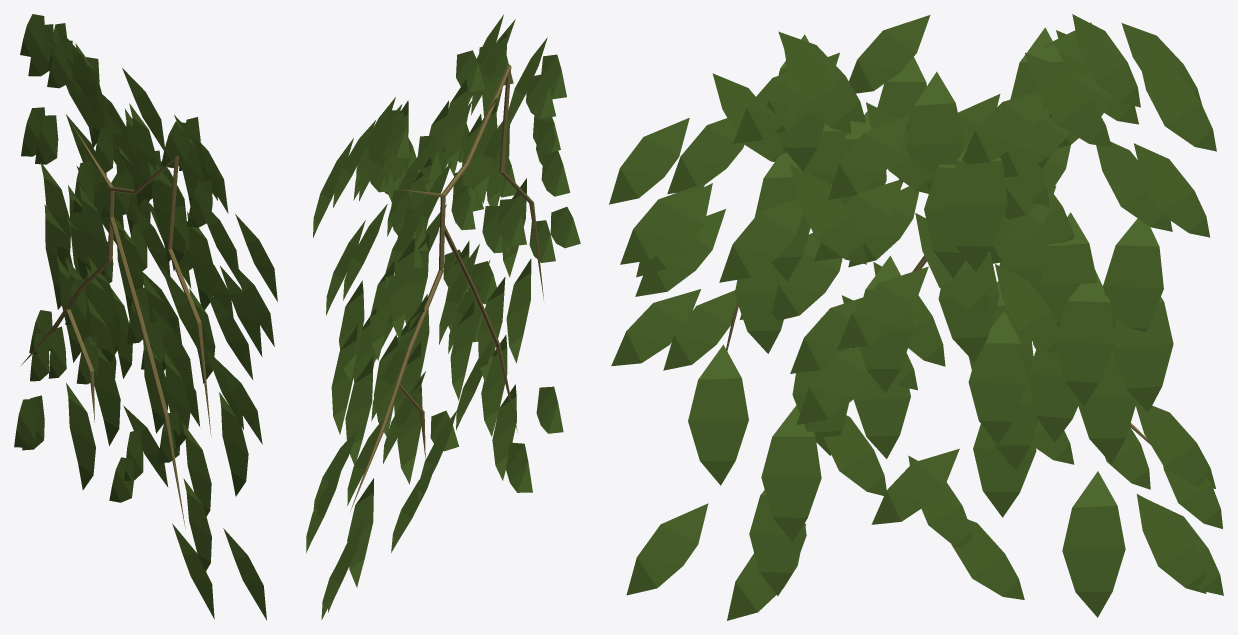
The model's file is WallIvyV2.fbx.
3 renders of one model, left to right at view 1: azimuth 30°, elevation 25°; view 2: azimuth 150°, elevation 25°; view 3: azimuth 270°, elevation 25°, orthographic. The views are drawn at different scales.
Parts seen in each view (by area): view 1: Plane, Plane.029, Plane.074, Plane.002, Plane.038, Plane.011, Plane.050, Plane.023, Plane.017, Plane.042, Plane.014, Plane.077 (+66 smaller); view 2: Plane, Plane.044, Plane.074, Plane.011, Plane.005, Plane.023, Plane.029, Plane.014, Plane.017, Plane.065, Plane.002, Plane.053 (+57 smaller); view 3: Plane.029, Plane.074, Plane.023, Plane.083, Plane.008, Plane.020, Plane.077, Plane.014, Plane.047, Plane.076, Plane.061, Plane.048 (+69 smaller).
Part boxes in pixels (x1=…): Plane: x1=21, y1=121, x2=211, y2=528; Plane.029: x1=66, y1=383, x2=95, y2=489; Plane.074: x1=219, y1=392, x2=248, y2=496; Plane.002: x1=88, y1=335, x2=120, y2=445; Plane.038: x1=187, y1=211, x2=215, y2=309; Plane.011: x1=79, y1=185, x2=107, y2=275; Plane.050: x1=164, y1=351, x2=190, y2=449; Plane.023: x1=182, y1=422, x2=211, y2=516; Plane.017: x1=183, y1=478, x2=211, y2=570; Plane.042: x1=205, y1=289, x2=252, y2=379; Plane.014: x1=44, y1=204, x2=72, y2=309; Plane.077: x1=40, y1=161, x2=70, y2=264; Plane: x1=350, y1=64, x2=543, y2=511; Plane.044: x1=345, y1=357, x2=372, y2=464; Plane.074: x1=506, y1=258, x2=531, y2=363; Plane.011: x1=389, y1=237, x2=414, y2=339; Plane.005: x1=443, y1=79, x2=467, y2=175; Plane.023: x1=481, y1=334, x2=507, y2=436; Plane.029: x1=347, y1=478, x2=373, y2=587; Plane.014: x1=331, y1=324, x2=357, y2=434; Plane.017: x1=492, y1=384, x2=516, y2=480; Plane.065: x1=450, y1=300, x2=474, y2=400; Plane.002: x1=397, y1=378, x2=422, y2=484; Plane.053: x1=370, y1=260, x2=394, y2=360; Plane.029: x1=1062, y1=471, x2=1125, y2=617; Plane.074: x1=688, y1=344, x2=748, y2=485; Plane.023: x1=761, y1=405, x2=821, y2=542; Plane.083: x1=1055, y1=270, x2=1114, y2=406; Plane.008: x1=944, y1=146, x2=1007, y2=271; Plane.020: x1=968, y1=311, x2=1026, y2=444; Plane.077: x1=1103, y1=218, x2=1163, y2=331; Plane.014: x1=1112, y1=297, x2=1173, y2=412; Plane.047: x1=906, y1=71, x2=964, y2=190; Plane.076: x1=1137, y1=52, x2=1216, y2=151; Plane.061: x1=1025, y1=52, x2=1111, y2=147; Plane.048: x1=719, y1=199, x2=803, y2=282.
Bounding box in the file's own units: 46.37 × 646 × 597.
